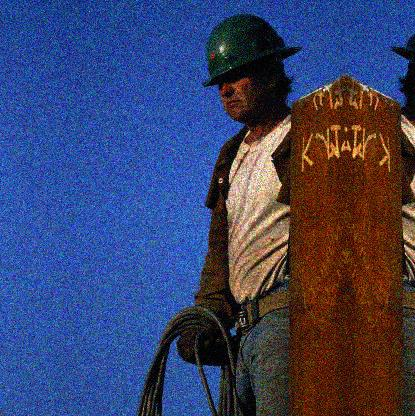helmet: (201, 13, 304, 123)
